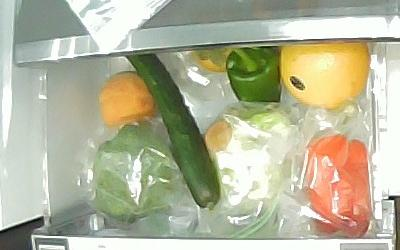broccoli_vinyl: (94, 123, 172, 226)
cucumber: (125, 56, 221, 212)
grapefruit: (280, 45, 371, 110)
lettuce_vinyl: (205, 102, 289, 212)
paprika: (225, 47, 283, 113)
paprika_vinyl: (301, 134, 371, 238)
peach: (99, 71, 156, 126)
persimmon_vinyl: (191, 50, 231, 73)
